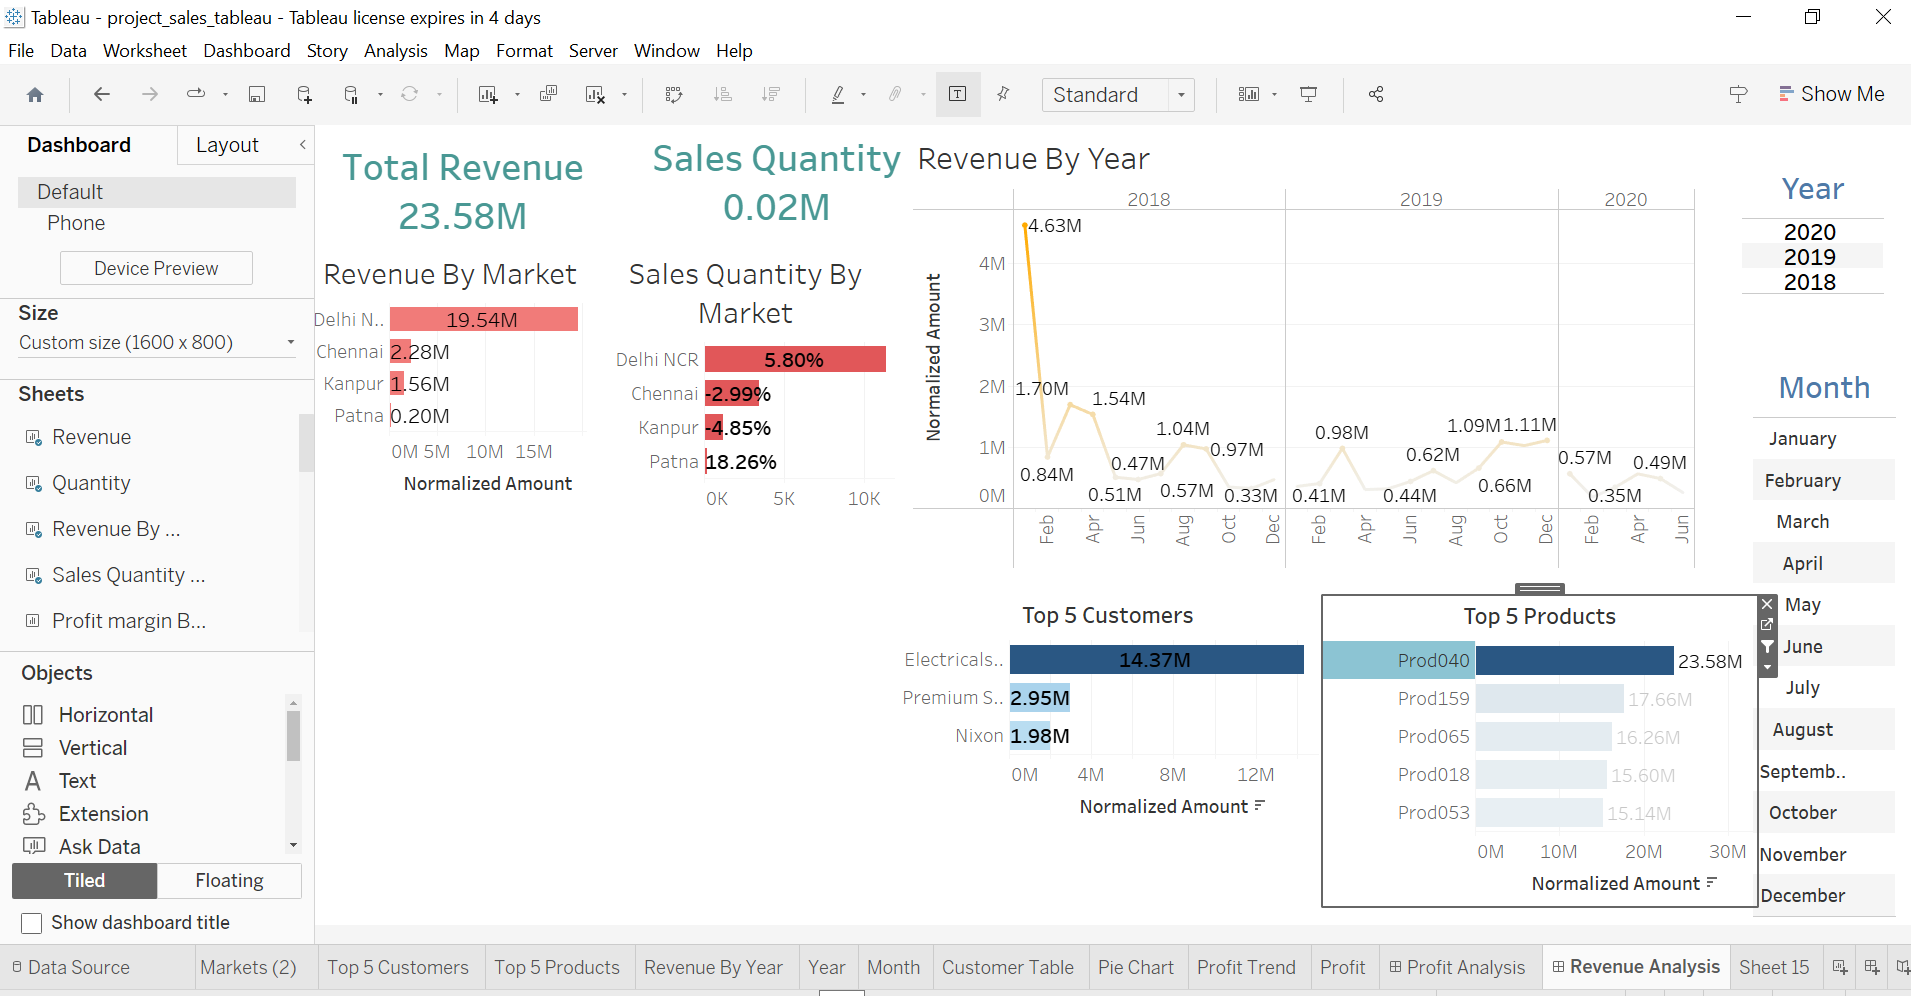

The dashboard page shown, as its layout file describes it:
{"tool":"tableau","page":{"name":"Revenue Analysis","canvas":[1600,800],"ordinal":1},"visuals":[{"type":"worksheet","title":"Quantity","mark":"Automatic","box":[332,7,322,115]},{"type":"worksheet","title":"Revenue By Year","mark":"Automatic","rows":["Calculation_345651339696406528"],"cols":["cy_date","cy_date"],"box":[598,7,782,437]},{"type":"worksheet","title":"Revenue","mark":"Automatic","box":[6,16,309,120]},{"type":"worksheet","title":"Year","mark":"Automatic","rows":["cy_date"],"box":[1427,37,174,203]},{"type":"worksheet","title":"Sales Quantity By Markets","mark":"Automatic","rows":["markets_name"],"cols":["sales_qty"],"box":[281,124,299,657]},{"type":"worksheet","title":"Month","mark":"Automatic","rows":["cy_date"],"box":[1438,236,143,556]},{"type":"worksheet","title":"Top 5 Customers","mark":"Automatic","rows":["custmer_name"],"cols":["Calculation_345651339696406528"],"box":[582,470,422,315]},{"type":"worksheet","title":"Top 5 Products","mark":"Automatic","rows":["product_code (products)"],"cols":["Calculation_345651339696406528"],"box":[1008,471,434,310]}]}

Visuals, with their boxes on the page's 1600x800 design canvas (x1, y1, x2, y2). These are canvas units, not pixel positions in the 1911x996 screenshot, which may show the page scaled, cropped or inside an application window:
"Quantity" worksheet: box(332, 7, 654, 122)
"Revenue By Year" worksheet: box(598, 7, 1380, 444)
"Revenue" worksheet: box(6, 16, 315, 136)
"Year" worksheet: box(1427, 37, 1601, 240)
"Sales Quantity By Markets" worksheet: box(281, 124, 580, 781)
"Month" worksheet: box(1438, 236, 1581, 792)
"Top 5 Customers" worksheet: box(582, 470, 1004, 785)
"Top 5 Products" worksheet: box(1008, 471, 1442, 781)
